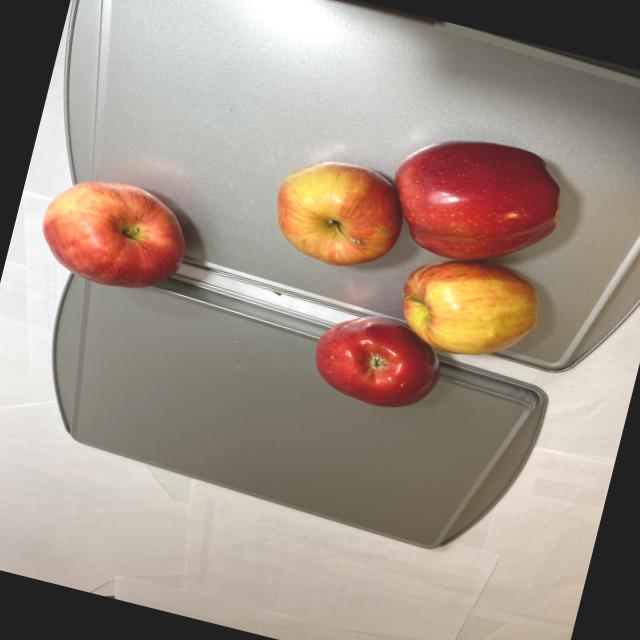apple: (229, 95, 582, 440), (31, 164, 205, 304)
